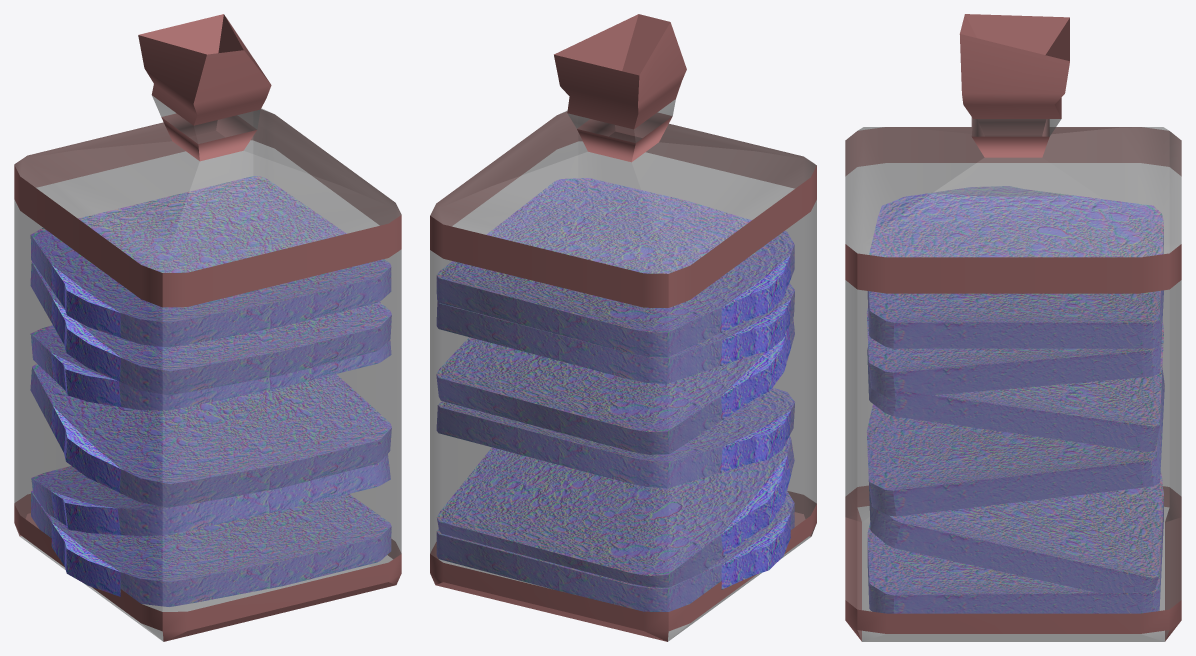
File: Bread.fbx
3 views of the same model, side by side, from view 1: azimuth 30°, elevation 25°; view 2: azimuth 150°, elevation 25°; view 3: azimuth 270°, elevation 25° (orthographic). The views are drawn at different scales.
Visible parts, largest first — view 1: Bread; view 2: Bread; view 3: Bread.
Boxes of the visible parts, bbox=[...] form: Bread: bbox=[14, 14, 401, 641]; Bread: bbox=[430, 14, 816, 641]; Bread: bbox=[845, 14, 1181, 641].
Bounding box in the file's own units: 14.09 × 26.31 × 14.42.
